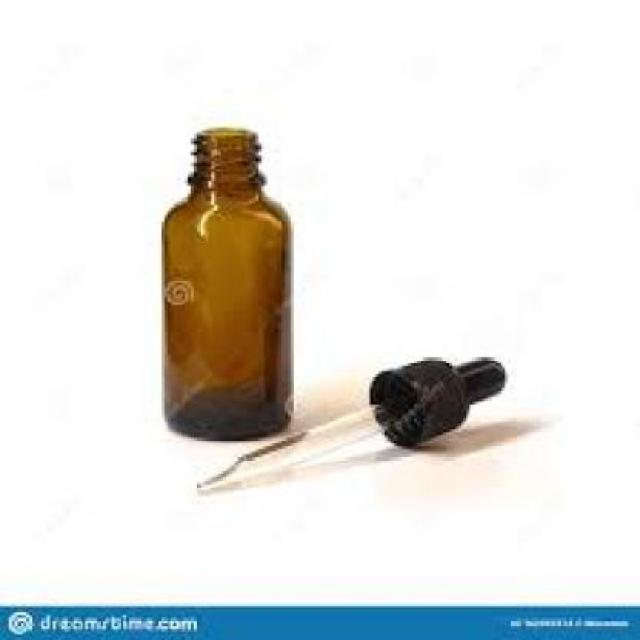kaca: (162, 128, 290, 437), (193, 402, 404, 488)
